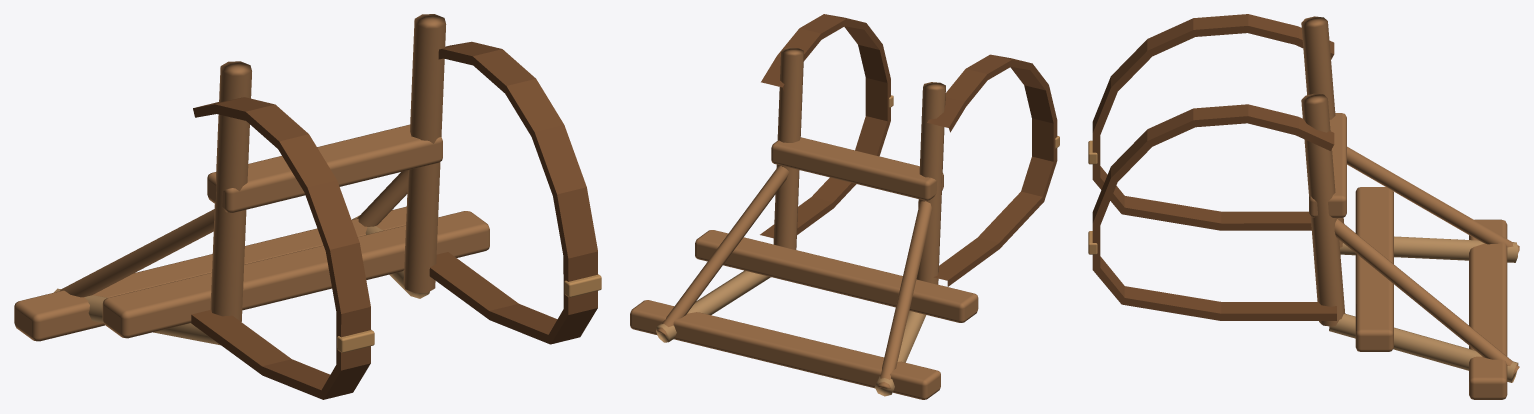
Rendered from carry_frame.glb.
3 renders of one model, left to right at view 1: azimuth 30°, elevation 25°; view 2: azimuth 150°, elevation 25°; view 3: azimuth 270°, elevation 25°, orthographic. The views are drawn at different scales.
Parts seen in each view (by area): view 1: ExpeditionPackFrame; view 2: ExpeditionPackFrame; view 3: ExpeditionPackFrame.
Boxes of the visible parts, x1=… form: ExpeditionPackFrame: x1=14, y1=14, x2=601, y2=399; ExpeditionPackFrame: x1=630, y1=14, x2=1059, y2=399; ExpeditionPackFrame: x1=1088, y1=14, x2=1519, y2=399.
Bounding box in the file's own units: 0.86 × 0.6518 × 0.9692.
